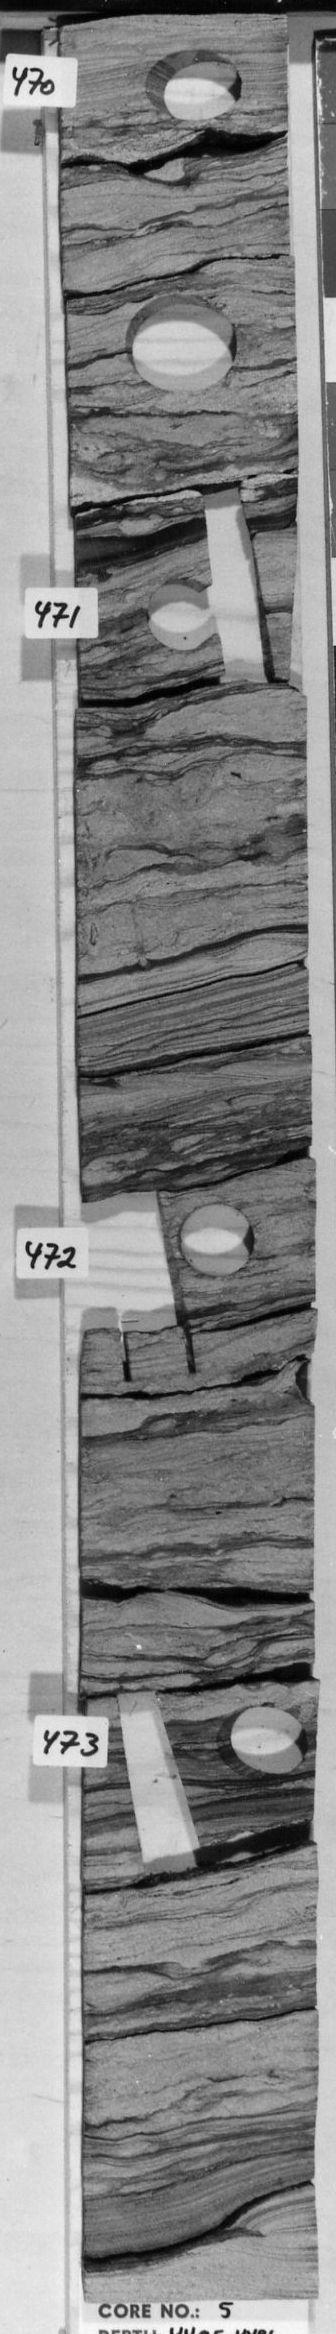hplug: (178, 1198, 268, 1288), (140, 48, 245, 122), (214, 1698, 309, 1780), (140, 575, 216, 656)
scal: (117, 292, 244, 396)
vplug: (104, 1180, 199, 1387), (110, 1686, 208, 1884), (201, 481, 278, 689)
